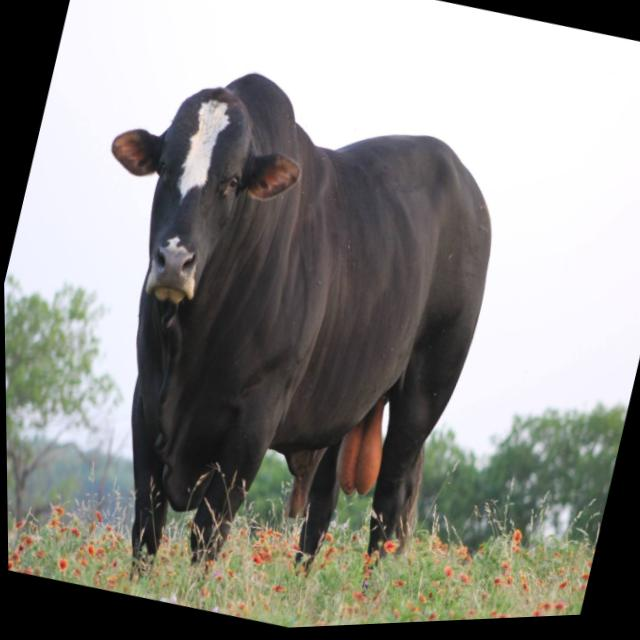cowFace: (81, 46, 326, 313)
